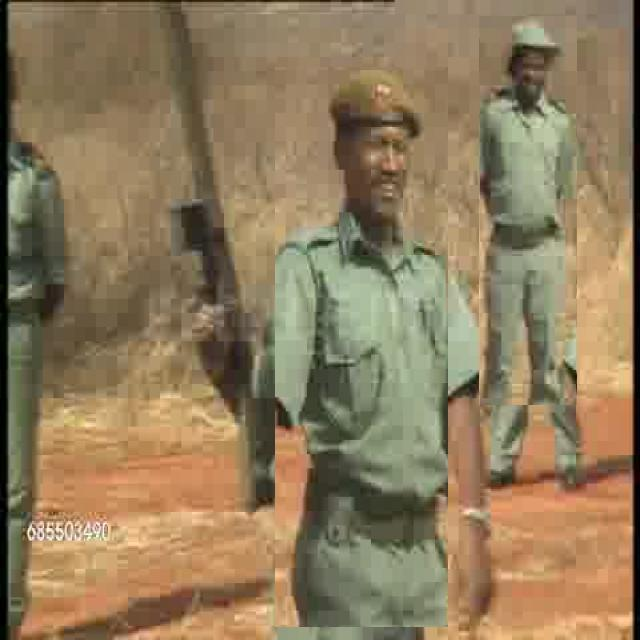poacher: (275, 68, 448, 628), (479, 16, 577, 405)
weapon: (152, 2, 268, 486)
